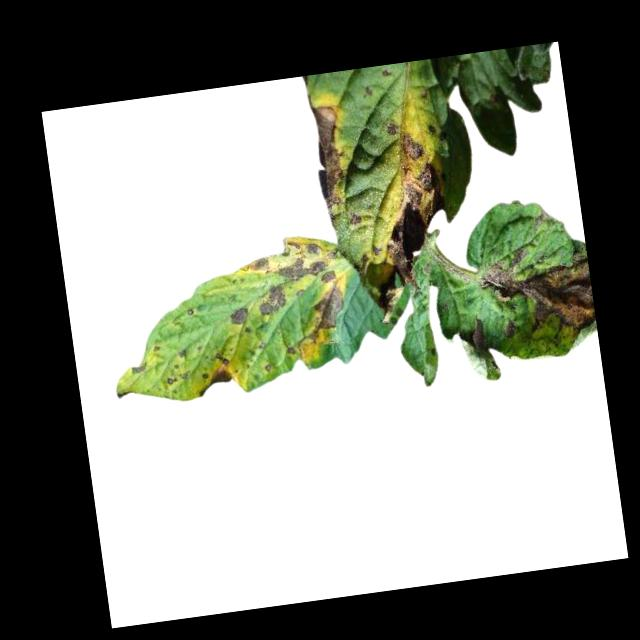Early_blight: (361, 161, 456, 322), (474, 238, 597, 348), (244, 229, 346, 292), (309, 104, 351, 210), (303, 280, 353, 343), (192, 352, 237, 397), (256, 283, 289, 319), (397, 129, 428, 163), (469, 316, 489, 361), (163, 361, 190, 387), (353, 253, 371, 279), (228, 307, 251, 327), (532, 211, 551, 232), (130, 361, 149, 378), (284, 343, 300, 361), (346, 212, 363, 228), (384, 120, 399, 137), (503, 323, 517, 339), (174, 348, 186, 360), (426, 125, 439, 136)
